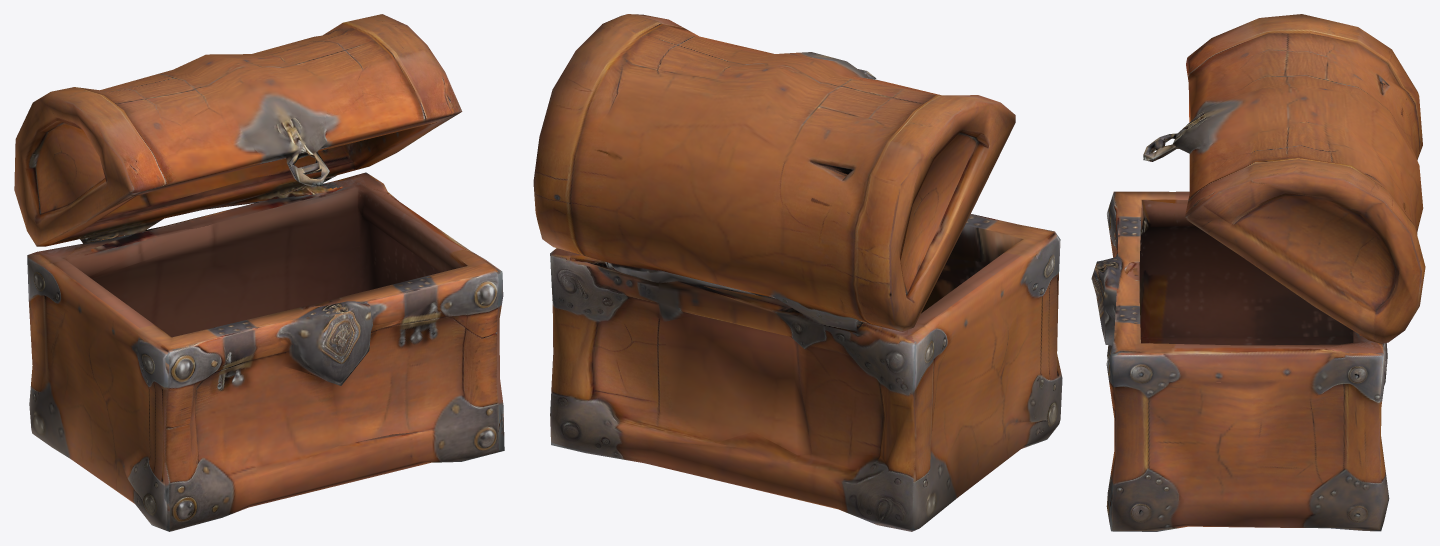
The model's file is bank chest.fbx.
The picture shows the model from 3 angles, left to right: view 1: azimuth 30°, elevation 25°; view 2: azimuth 150°, elevation 25°; view 3: azimuth 270°, elevation 25°; orthographic projection. The views are drawn at different scales.
Parts seen in each view (by area): view 1: input; view 2: input; view 3: input.
Part boxes in pixels (x1=…): input: x1=14, y1=14, x2=504, y2=531; input: x1=533, y1=14, x2=1062, y2=531; input: x1=1091, y1=14, x2=1425, y2=531.
Bounding box in the file's own units: 200 × 196 × 165.
Materials: 1 (1 with a texture image).
